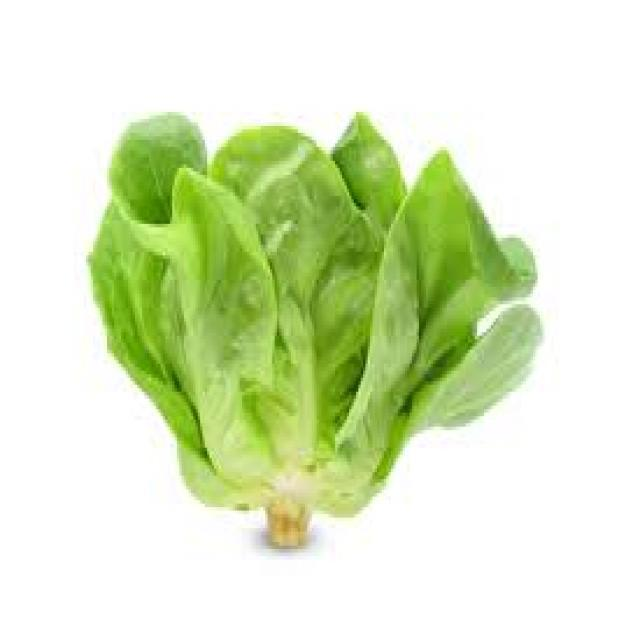Lettuce: (86, 108, 552, 552)
